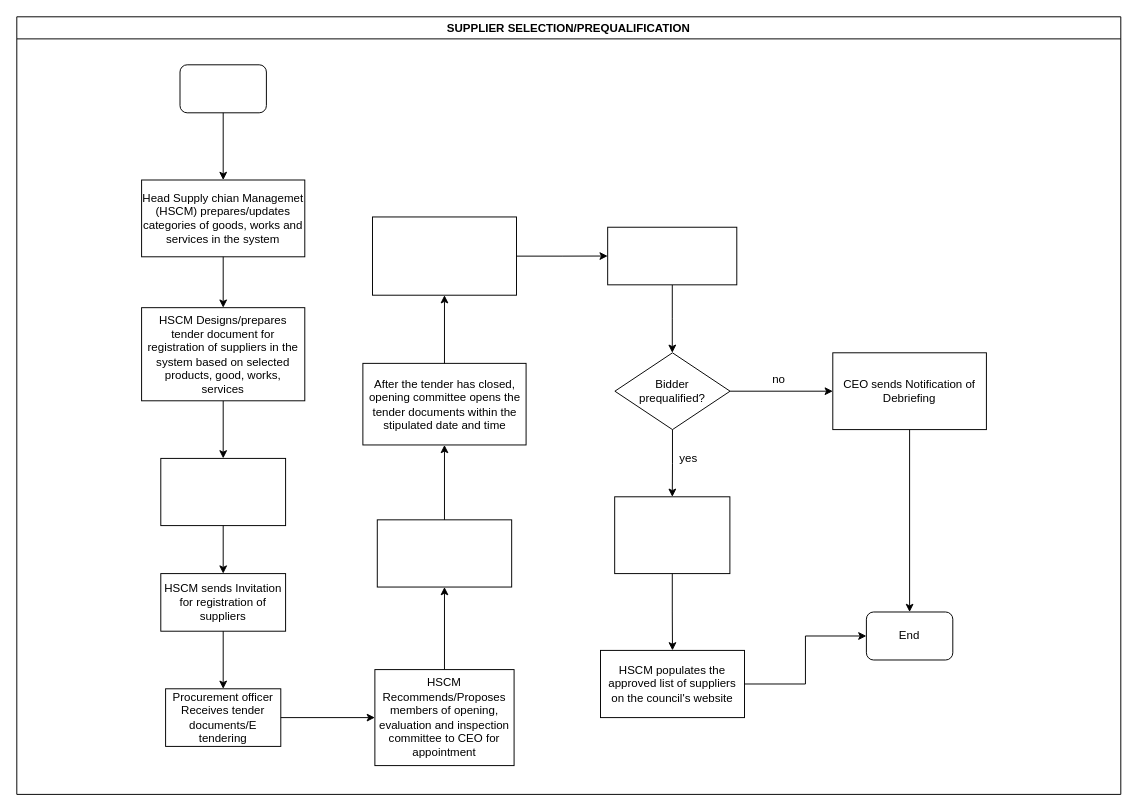
The diagram is 1138 pixels wide and 811 high, and some of its shapes have lost their labels. The shapes that lost their labels are listed below. From the top down, each one's box as (x1, y1, x2, y2) in pixels, then its label:
(179, 64, 266, 113): Start
(372, 216, 516, 295): Evaluation committee evaluates tender documents within stipulated timelines
(607, 226, 737, 285): HSCM Prepares professional opinion
(160, 457, 286, 526): HSCM Pre-configures the Advert for registration of suppliers
(376, 519, 512, 587): CEO Appoints members of opening, evaluation and inspection committee
(614, 496, 730, 574): CEO sends Notification of awards
